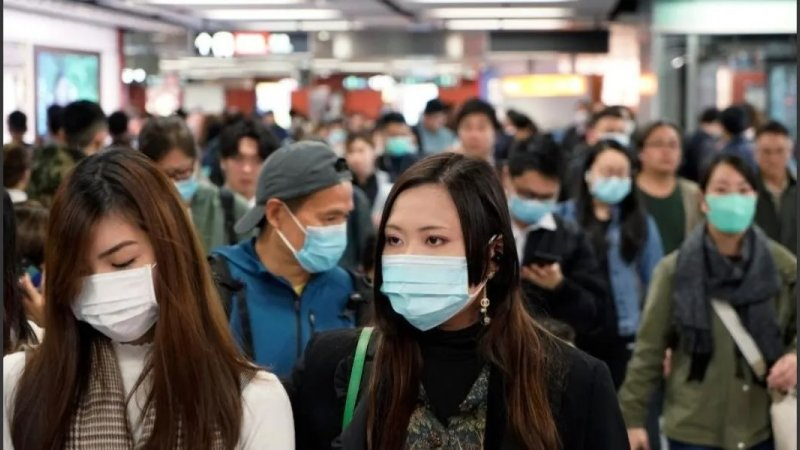barbijo: (45, 257, 187, 347), (369, 243, 492, 330), (294, 213, 352, 278)
